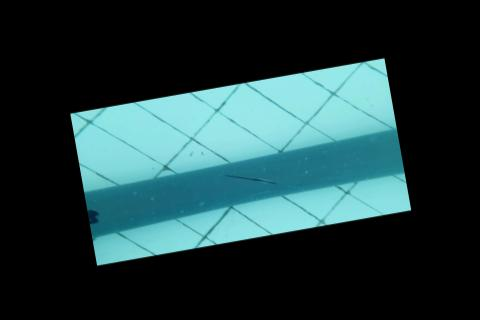kebocoran: (86, 206, 102, 226)
keretakan: (222, 164, 277, 193)
